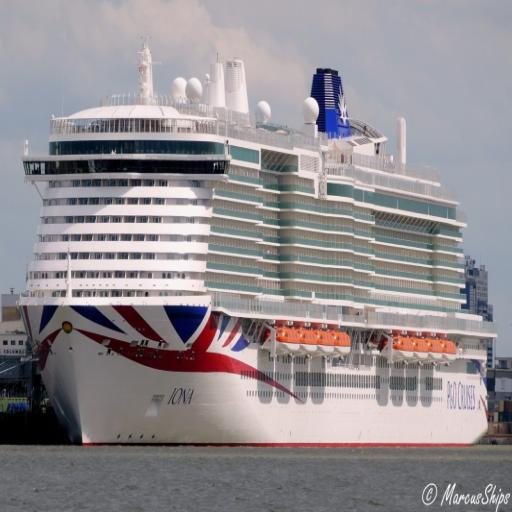cruises: (17, 32, 501, 457)
